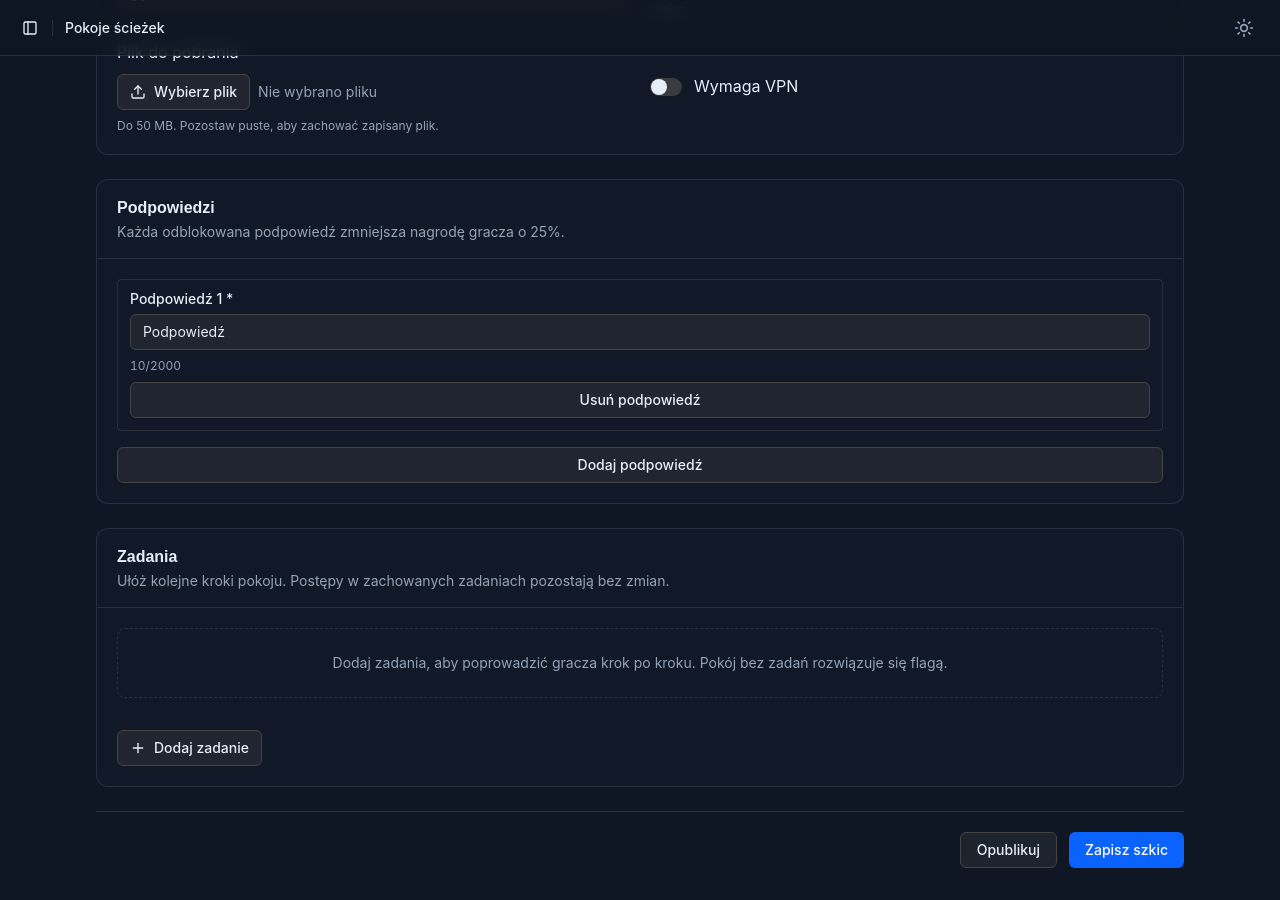
Test: draft editors and guarded navigation › includes edited tasks in save-and-preview and leaves invalid task fields in the editor
(page scrolled)
Click the button "Dodaj zadanie": click(190, 748) [117,730,262,766]
(page scrolled)
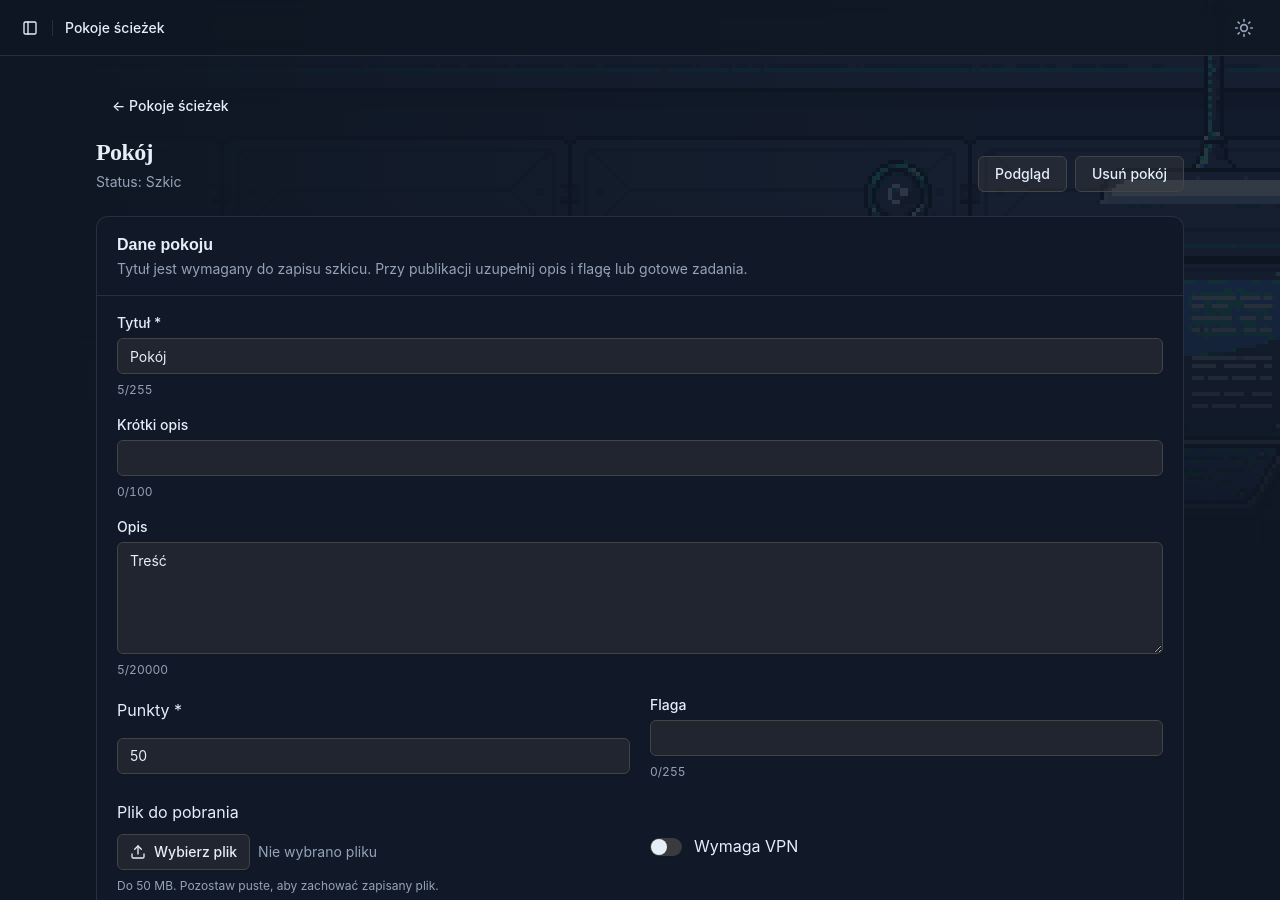
Click the button "Podgląd": click(1022, 174) [978,156,1067,192]
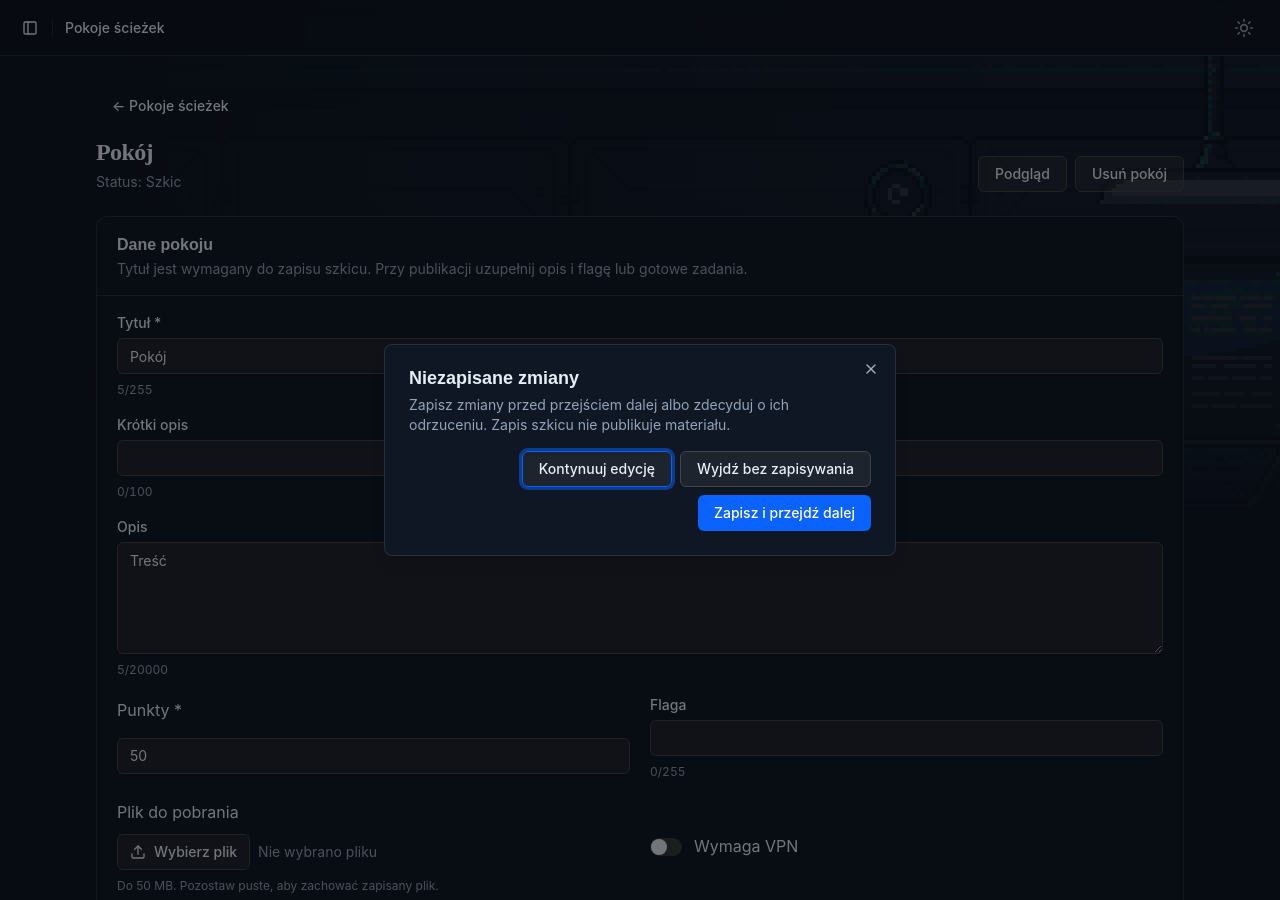
Click the button "Zapisz i przejdź dalej": click(784, 513) [698,495,871,531]
(page scrolled)
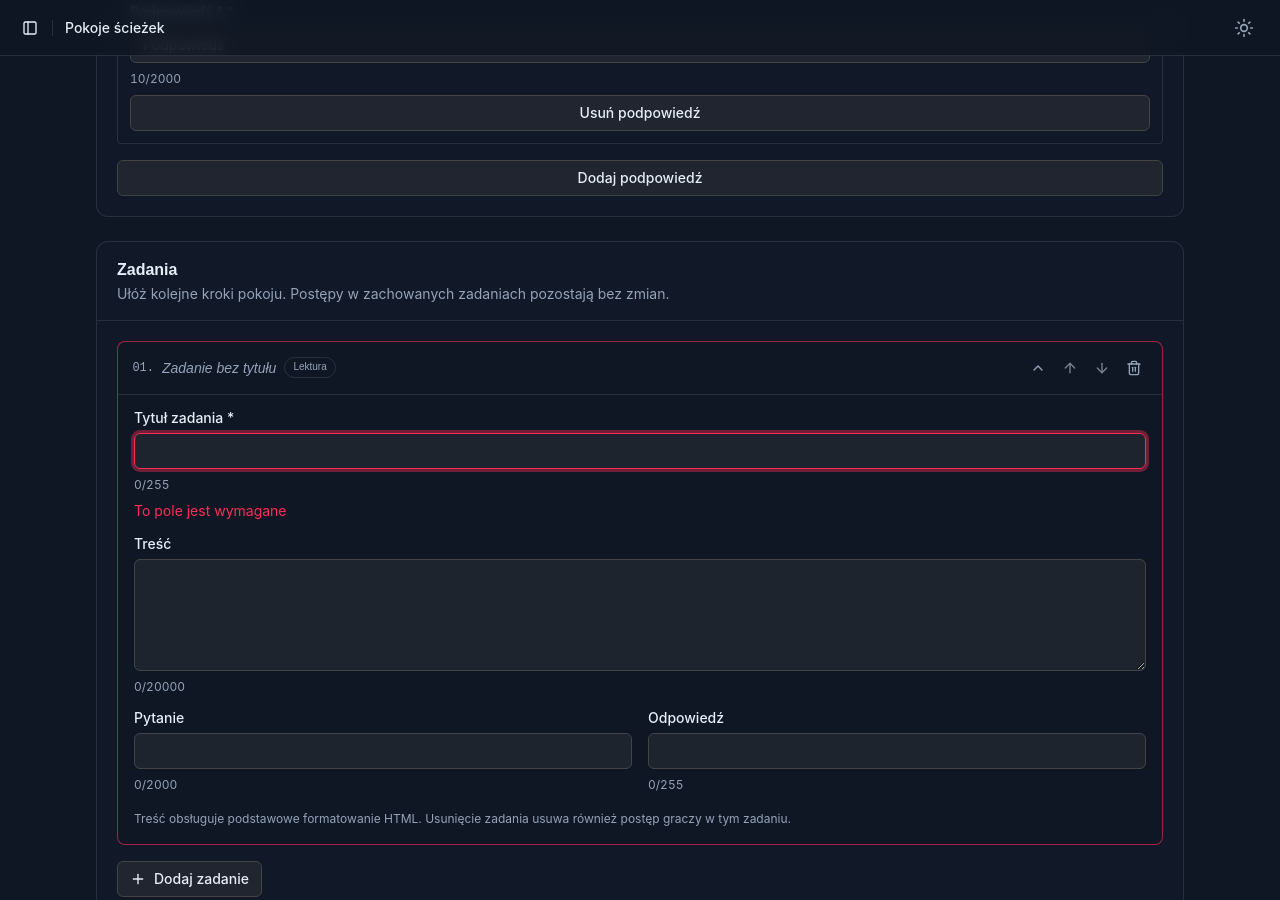
expect the text "To pole jest wymagane" is shown: met, box [134,502,286,519]
